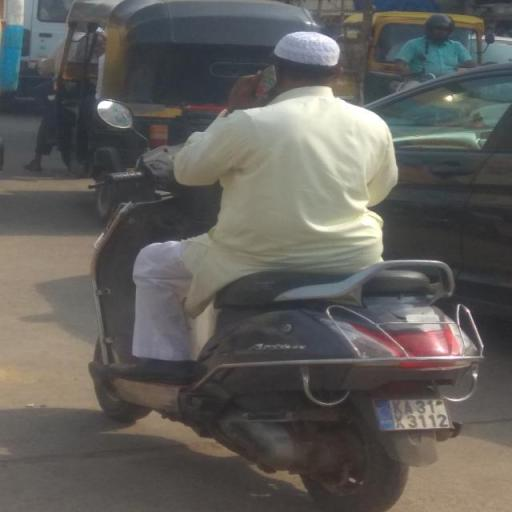bike: (68, 21, 497, 512)
numberplate: (368, 396, 454, 434)
using mobile: (256, 64, 278, 101)
withouthelmet: (277, 32, 342, 89)
